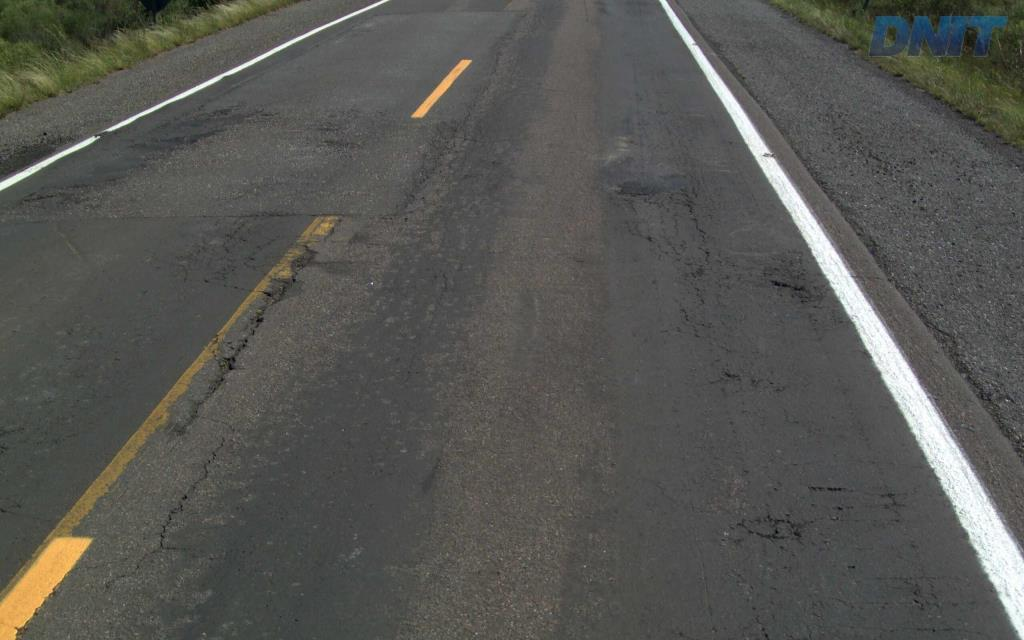crack: (736, 509, 816, 544), (889, 572, 943, 616), (768, 268, 822, 304), (262, 277, 296, 305)
